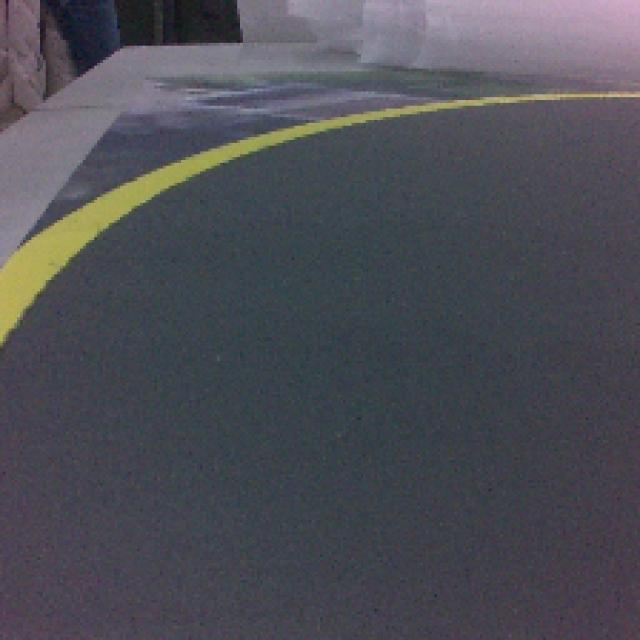Road: (0, 277, 640, 636)
